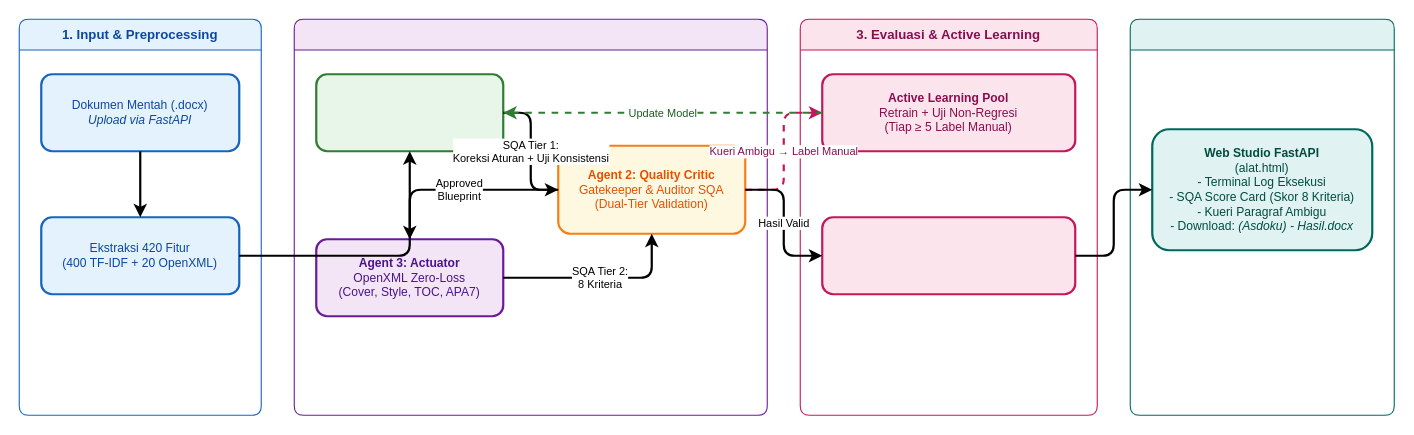
The diagram is 1414 pixels wide and 435 high, and some of its shapes have lost their labels. Here are the shapes that lost their labels. From the top down, the box of each, then its label:
(315, 73, 504, 152): Agent 1: Inspector Random Forest (ML Murni) (Draft Blueprint)
(293, 18, 767, 415): 2. Eksekusi Tri-Agent & Two-Tier SQA
(1129, 18, 1394, 415): 4. Output & Web UI Studio
(821, 216, 1076, 295): Evaluasi Metrik Puncak Akurasi: 97.22% SQA: 100% PASS (P1-P5)
